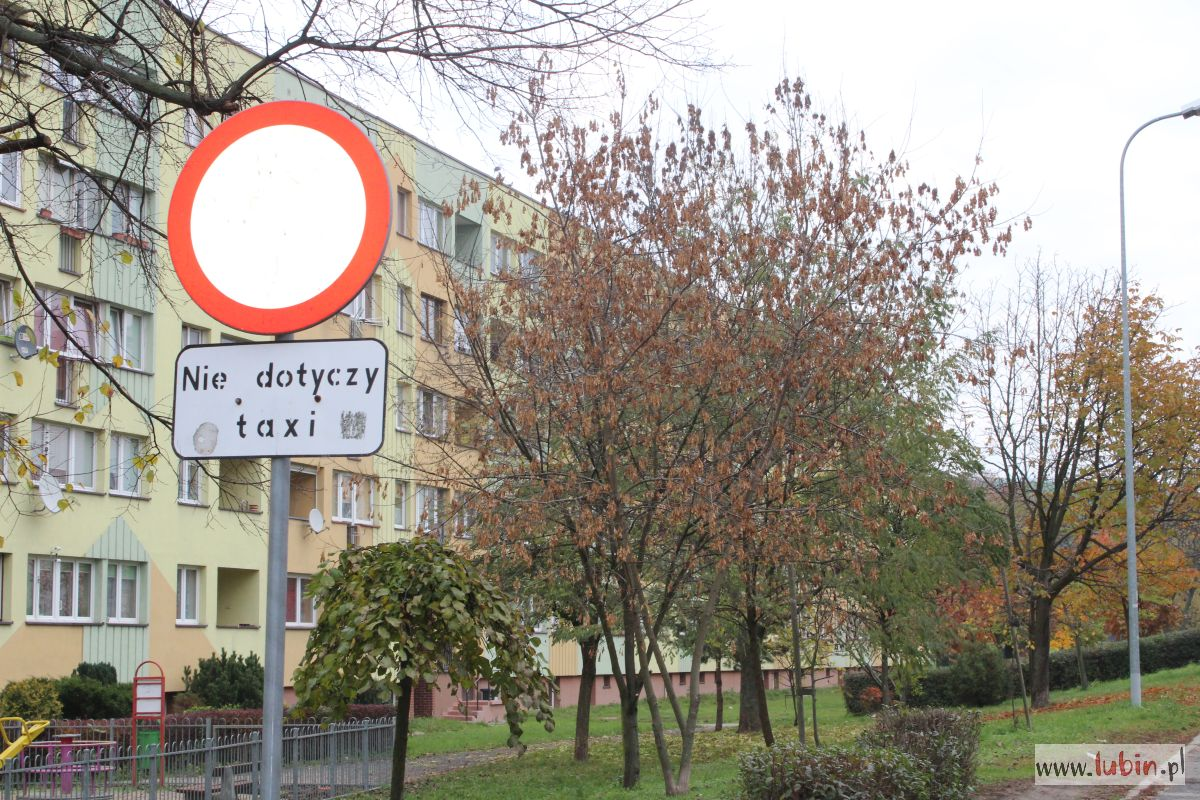no_entry_sign: (167, 99, 393, 335)
